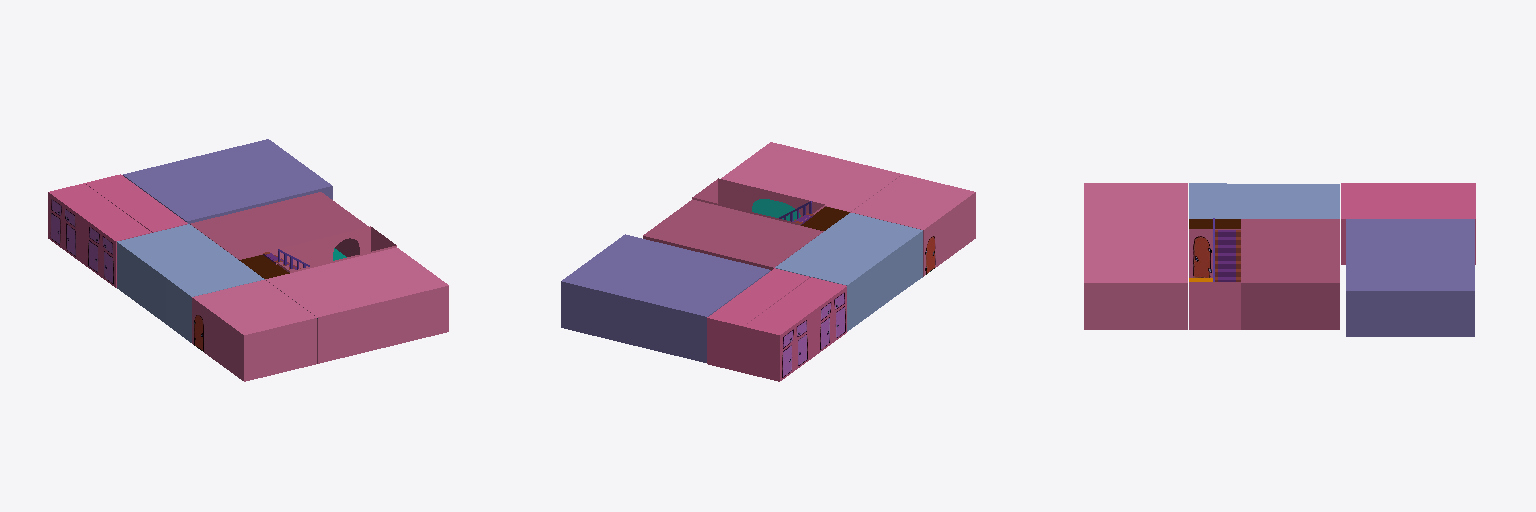
3 views of the same model, side by side, from view 1: azimuth 30°, elevation 25°; view 2: azimuth 150°, elevation 25°; view 3: azimuth 270°, elevation 25° (orthographic).
Parts seen in each view (by area): view 1: Sala_Cube.001, Garage_Cube.012, Sala2_Cube.007, Cocina_Cube.005, Comedor_Cube.003, Sala3_Cube.014, Pasillo_Cube.004, Entrada_Cube.002, Armario_Cube.008; view 2: Garage_Cube.012, Cocina_Cube.005, Sala3_Cube.014, Sala_Cube.001, Comedor_Cube.003, Sala2_Cube.007, Pasillo_Cube.004, Entrada_Cube.002, Armario_Cube.008; view 3: Garage_Cube.012, Sala_Cube.001, Comedor_Cube.003, Cocina_Cube.005, Entrada_Cube.002, Sala2_Cube.007, Pasillo_Cube.004, Sala3_Cube.014, Escaleras_Plane.
Part boxes in pixels (x1,y1,x2,y2): Sala_Cube.001: (265, 247, 448, 363); Garage_Cube.012: (123, 139, 332, 223); Sala2_Cube.007: (192, 280, 316, 381); Cocina_Cube.005: (117, 224, 264, 342); Comedor_Cube.003: (190, 192, 368, 260); Sala3_Cube.014: (48, 183, 151, 287); Pasillo_Cube.004: (85, 174, 187, 232); Entrada_Cube.002: (264, 226, 396, 272); Armario_Cube.008: (239, 255, 289, 278); Garage_Cube.012: (561, 234, 770, 362); Cocina_Cube.005: (775, 213, 922, 331); Sala3_Cube.014: (743, 277, 846, 381); Sala_Cube.001: (721, 142, 901, 220); Comedor_Cube.003: (643, 199, 823, 270); Sala2_Cube.007: (851, 174, 975, 276); Pasillo_Cube.004: (707, 268, 809, 372); Entrada_Cube.002: (692, 178, 824, 223); Armario_Cube.008: (801, 207, 849, 230); Garage_Cube.012: (1346, 219, 1474, 336); Sala_Cube.001: (1084, 219, 1187, 329); Comedor_Cube.003: (1241, 219, 1339, 329); Cocina_Cube.005: (1189, 183, 1339, 218); Entrada_Cube.002: (1189, 229, 1240, 329); Sala2_Cube.007: (1084, 183, 1187, 218); Pasillo_Cube.004: (1341, 201, 1475, 264); Sala3_Cube.014: (1341, 183, 1475, 200); Escaleras_Plane: (1213, 218, 1240, 281).
Bounding box in the file's own units: 138 × 40.01 × 213.
Materials: 10 (10 with a texture image).